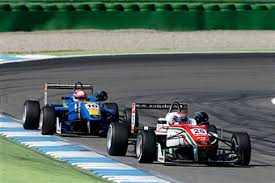race car: (105, 101, 252, 168), (21, 81, 139, 139)
